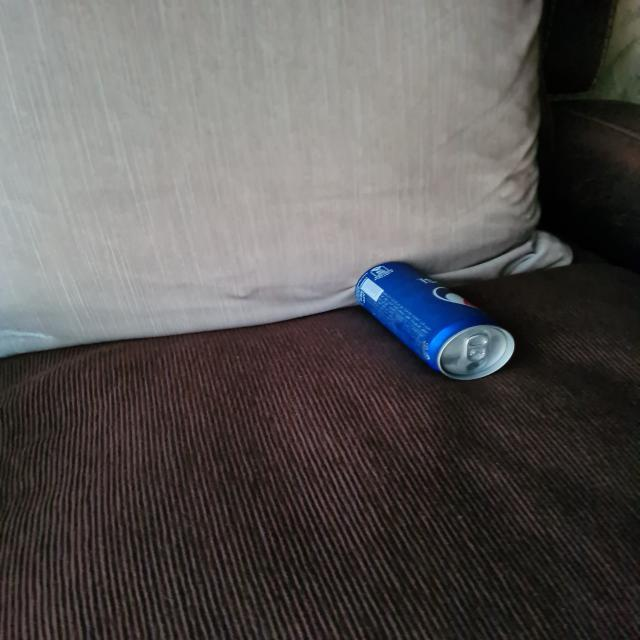can: (354, 258, 523, 378)
